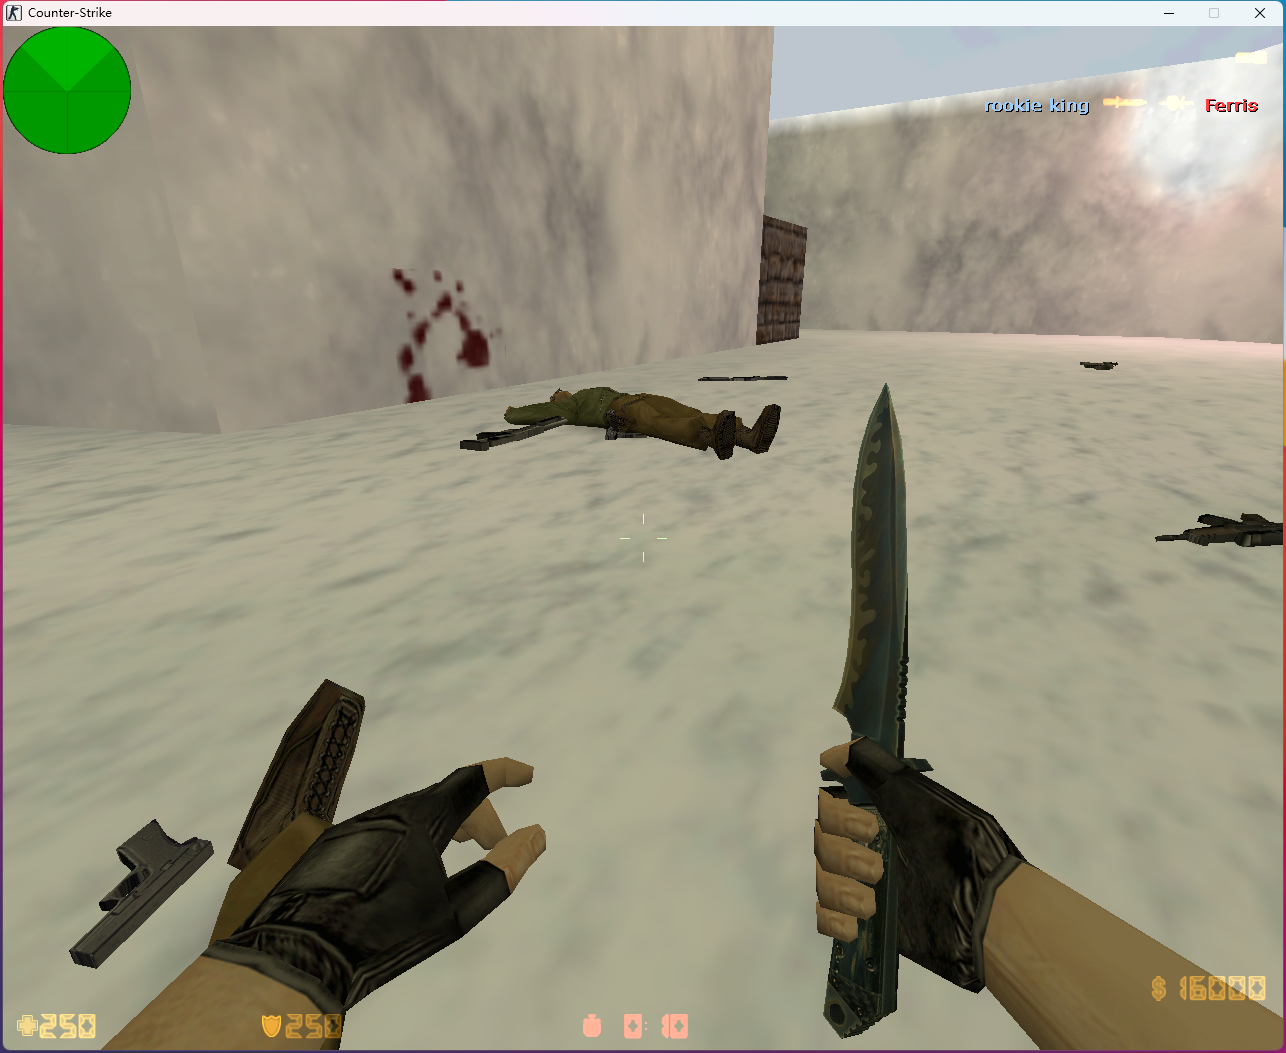dead: (498, 386, 794, 457)
weapon: (68, 826, 209, 970), (1152, 506, 1286, 548), (460, 417, 561, 453), (693, 372, 787, 383), (1079, 355, 1120, 373)
